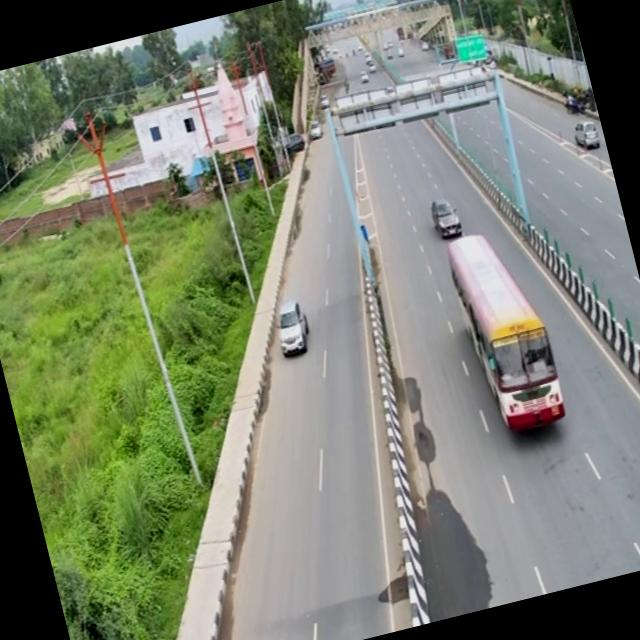car: (266, 292, 317, 358), (424, 190, 466, 239), (568, 110, 606, 154)
